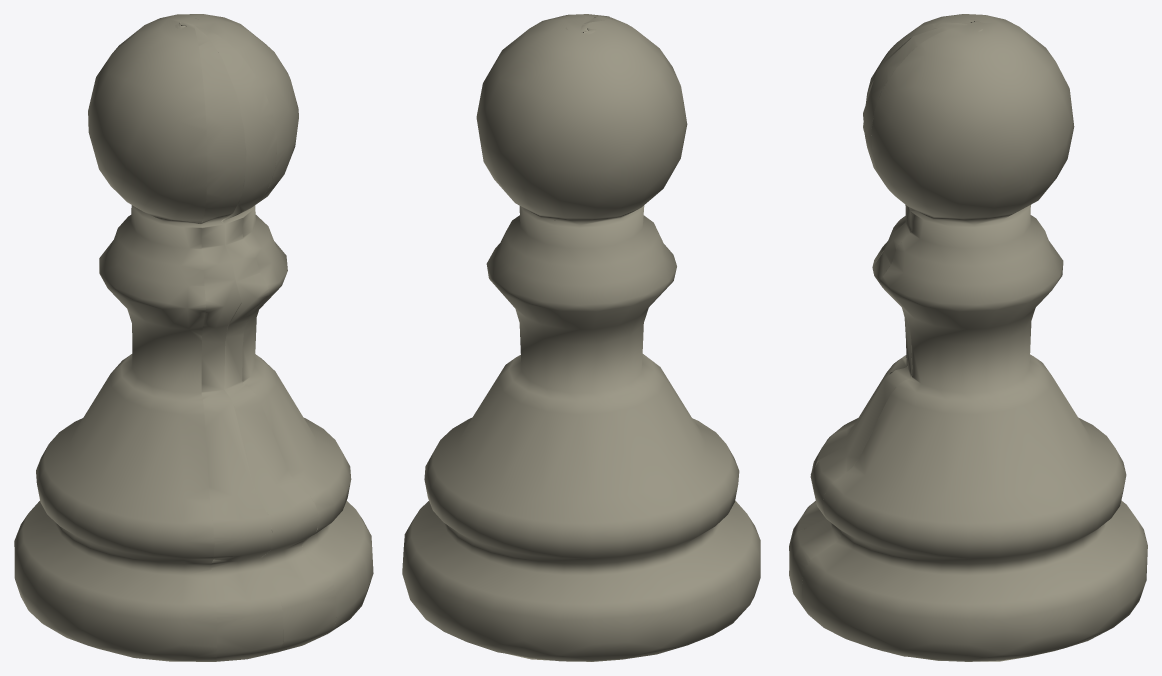
Rendered from Pawn.FBX.
3 renders of one model, left to right at view 1: azimuth 30°, elevation 25°; view 2: azimuth 150°, elevation 25°; view 3: azimuth 270°, elevation 25°, orthographic.
Visible parts, largest first — view 1: Pawn; view 2: Pawn; view 3: Pawn.
Part boxes in pixels (box(x1,y1,x2,y2)): Pawn: box(14, 14, 373, 661); Pawn: box(402, 14, 760, 661); Pawn: box(789, 14, 1147, 661).
Bounding box in the file's own units: 129 × 227 × 128.
